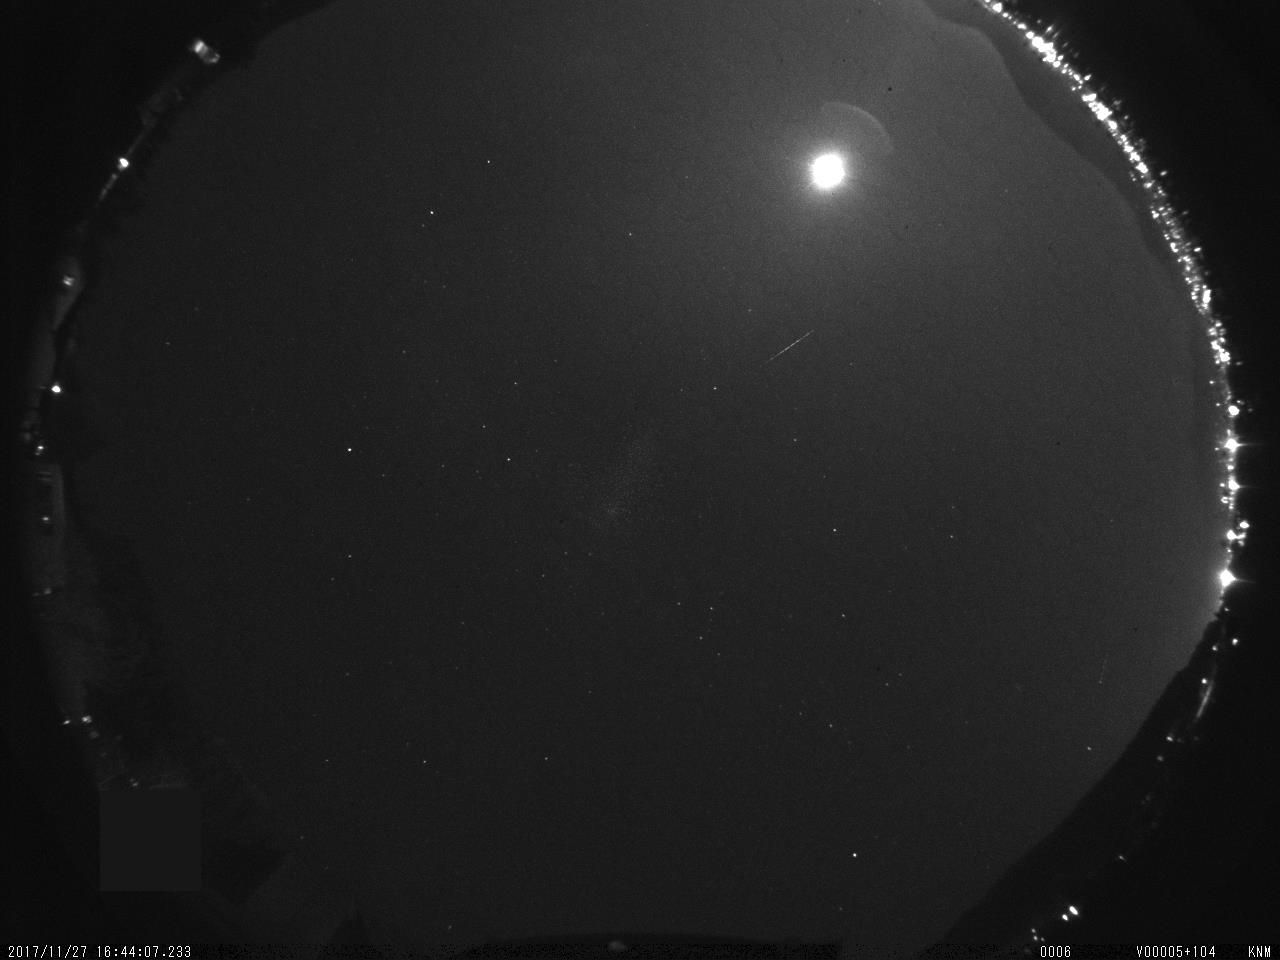meteor: (745, 311, 838, 373)
